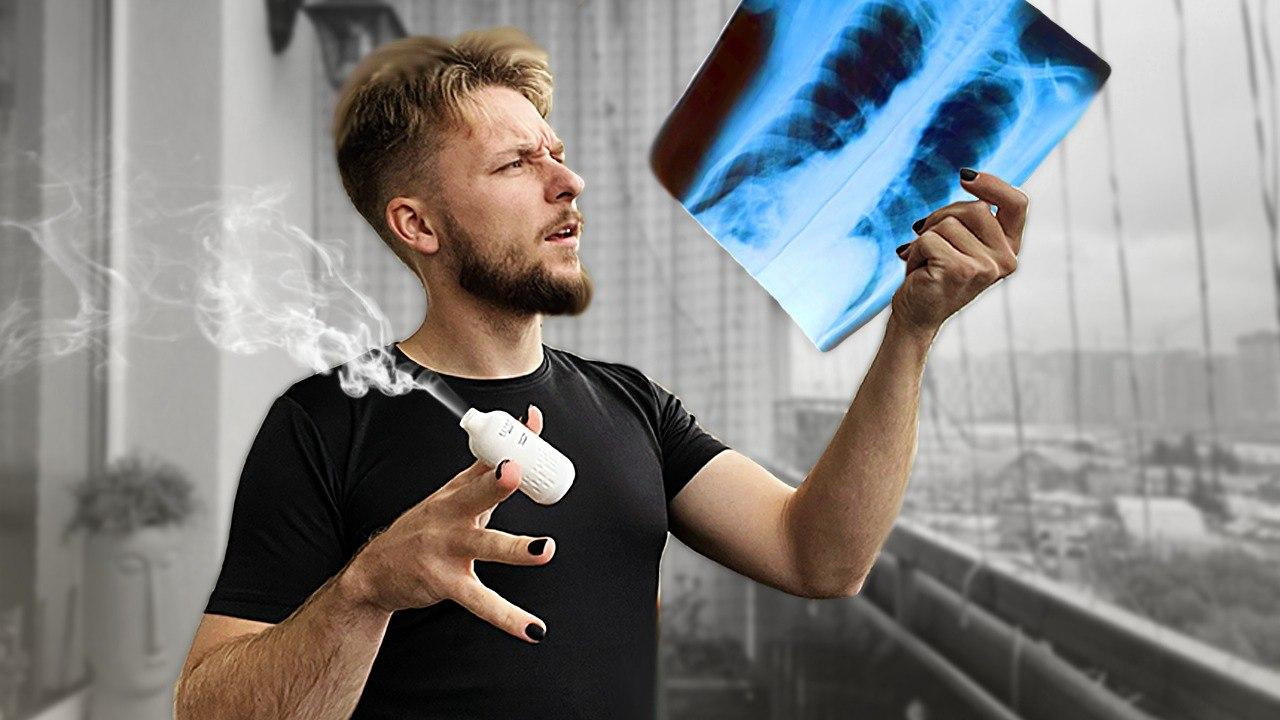Vape: (460, 407, 575, 506)
